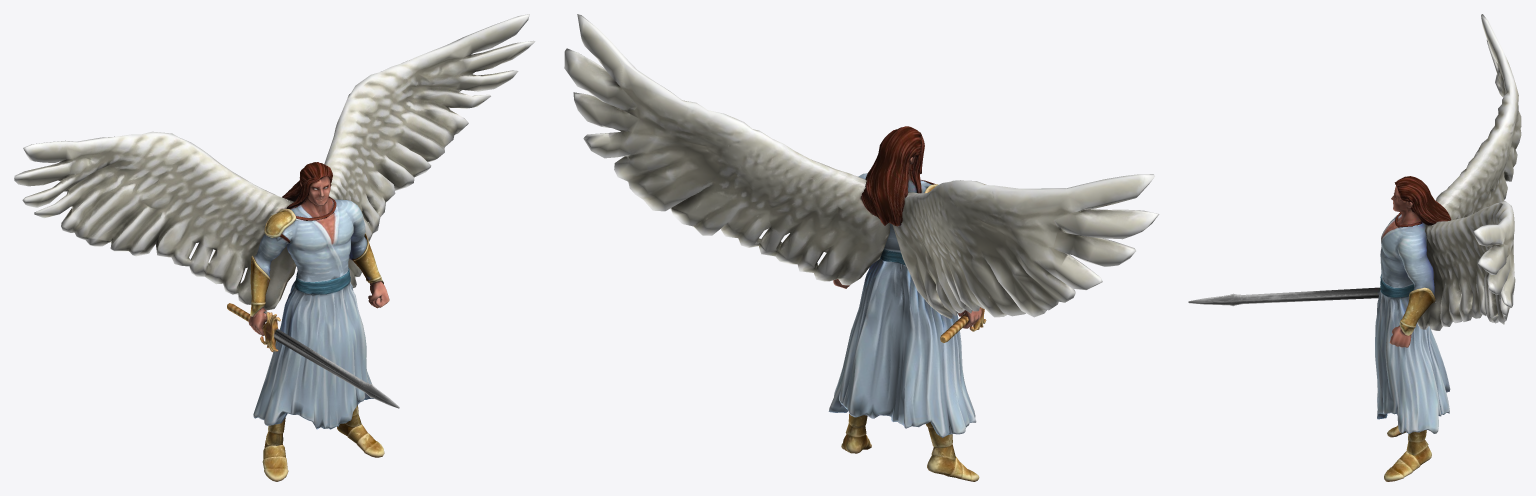
File: Angel Solar Male.glb
3 views of the same model, side by side, from view 1: azimuth 30°, elevation 25°; view 2: azimuth 150°, elevation 25°; view 3: azimuth 270°, elevation 25° (orthographic). The views are drawn at different scales.
Parts seen in each view (by area): view 1: wings_high.002, body_low.001, sword_high.002; view 2: wings_high.002, body_low.001; view 3: wings_high.002, body_low.001, sword_high.002.
Boxes of the visible parts, x1,y1,x2,y2 form: wings_high.002: (14, 14, 535, 310); body_low.001: (248, 162, 389, 481); sword_high.002: (227, 303, 399, 408); wings_high.002: (564, 14, 1159, 319); body_low.001: (828, 126, 981, 481); wings_high.002: (1417, 14, 1521, 330); body_low.001: (1375, 176, 1451, 481); sword_high.002: (1188, 287, 1380, 306).
Bounding box in the file's own units: 8.74 × 5.85 × 5.19.
1 material, 1 textured.
